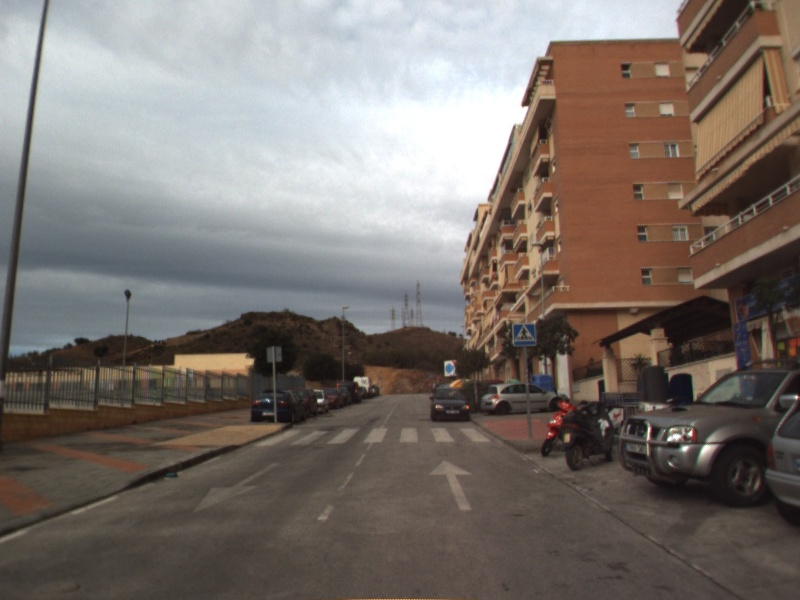STRAIGHT: (427, 457, 475, 512)
